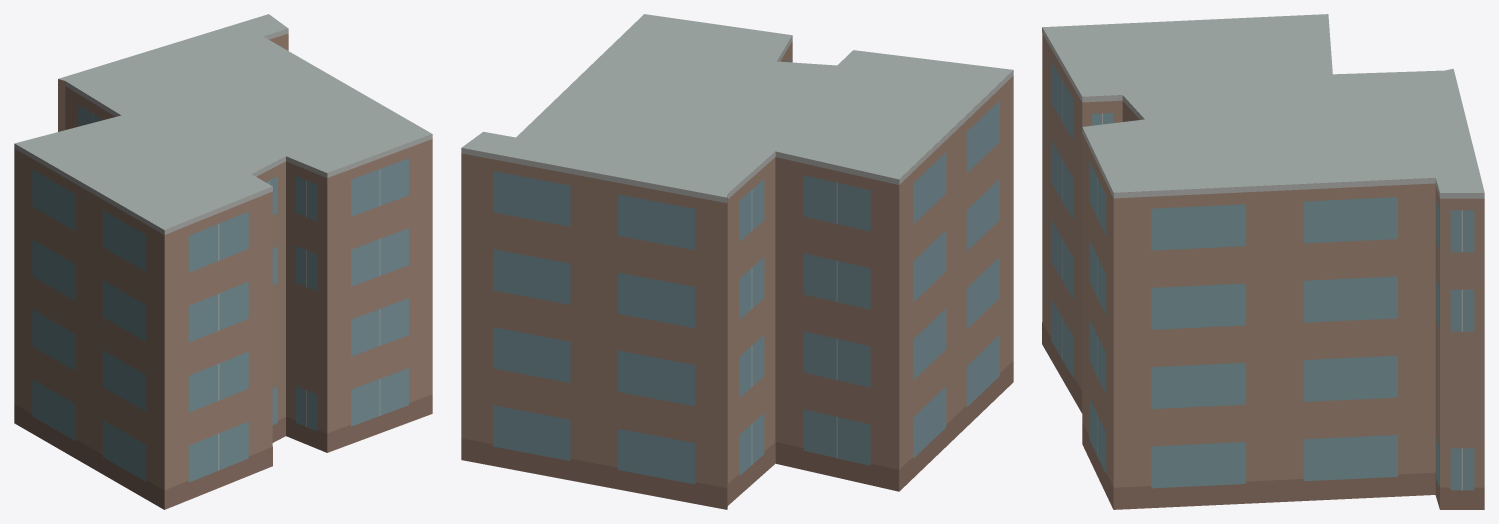
The model's file is survey-upis-32858178.glb.
The picture shows the model from 3 angles, left to right: view 1: azimuth 30°, elevation 25°; view 2: azimuth 150°, elevation 25°; view 3: azimuth 270°, elevation 25°; orthographic projection. The views are drawn at different scales.
Parts seen in each view (by area): view 1: survey-upis-32858178.tmp; view 2: survey-upis-32858178.tmp; view 3: survey-upis-32858178.tmp.
Part boxes in pixels (box(x1,y1,x2,y2)): survey-upis-32858178.tmp: box(14, 14, 432, 509); survey-upis-32858178.tmp: box(461, 14, 1013, 509); survey-upis-32858178.tmp: box(1042, 14, 1484, 509).
Size of the model in its own units: 16.53 by 13.65 by 17.28.
